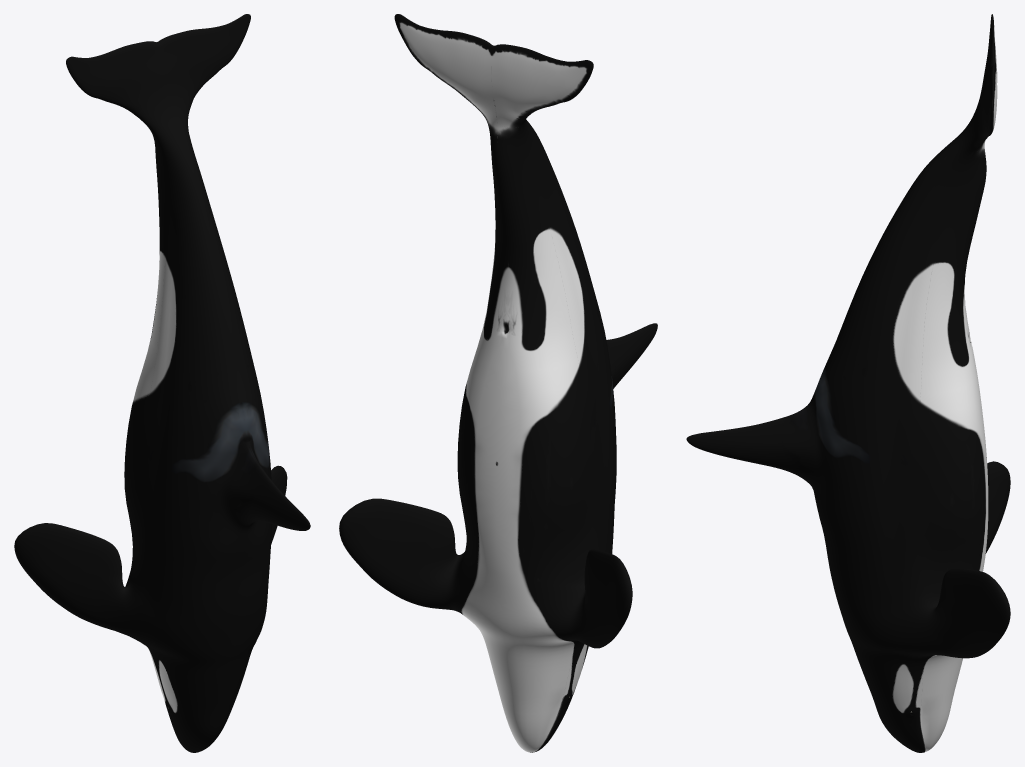
Rendered from orca.obj.
3 renders of one model, left to right at view 1: azimuth 30°, elevation 25°; view 2: azimuth 150°, elevation 25°; view 3: azimuth 270°, elevation 25°, orthographic. The views are drawn at different scales.
Parts seen in each view (by area): view 1: whale_Cube.001; view 2: whale_Cube.001; view 3: whale_Cube.001.
Boxes of the visible parts, <box> form: whale_Cube.001: <box>14,14,310,752</box>; whale_Cube.001: <box>339,14,657,752</box>; whale_Cube.001: <box>686,14,1010,752</box>.
Size of the model in its own units: 0.728 by 1.77 by 0.7484.
1 material, 1 textured.
